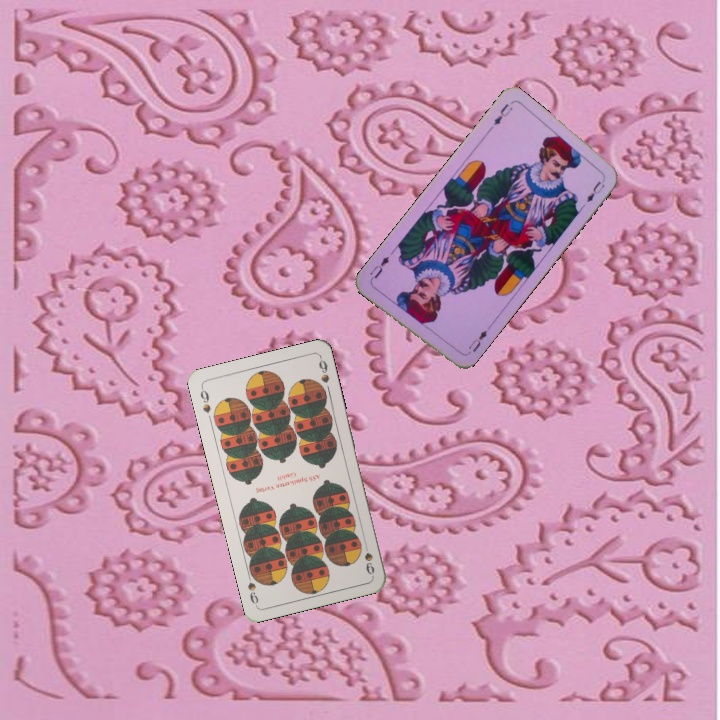EU: (462, 326, 490, 358), (490, 99, 515, 128)
S9: (360, 537, 377, 577), (196, 383, 213, 416)
